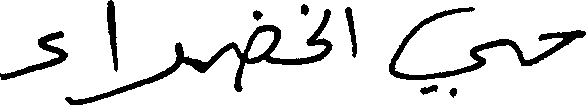ء: (0, 28, 69, 82)
ا: (105, 0, 119, 77), (343, 4, 357, 58)
ح: (536, 27, 585, 64)
ر: (133, 40, 182, 89)
ض: (243, 8, 280, 67)
ل: (298, 4, 331, 64), (304, 3, 331, 46), (294, 66, 297, 67)
ي: (387, 4, 486, 97)
